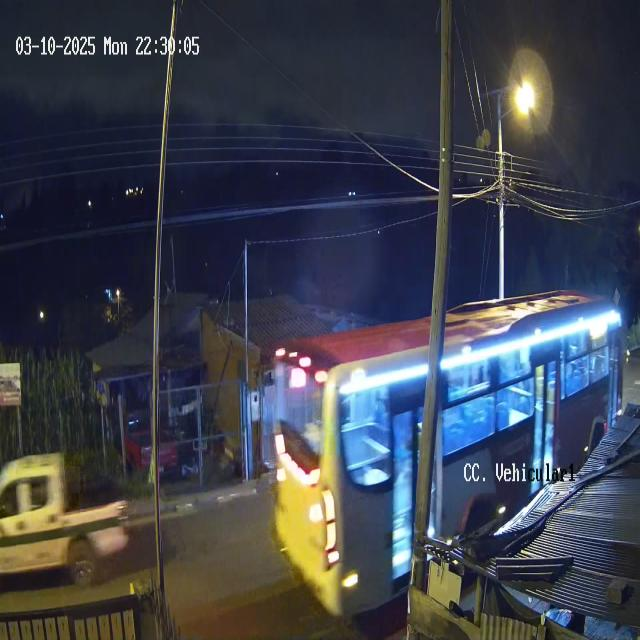BUS: (271, 289, 627, 623)
